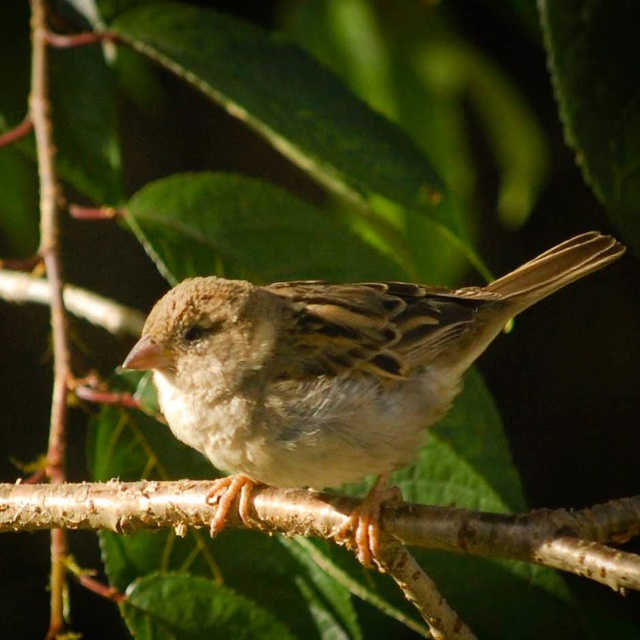Sparrow: (115, 242, 638, 562)
